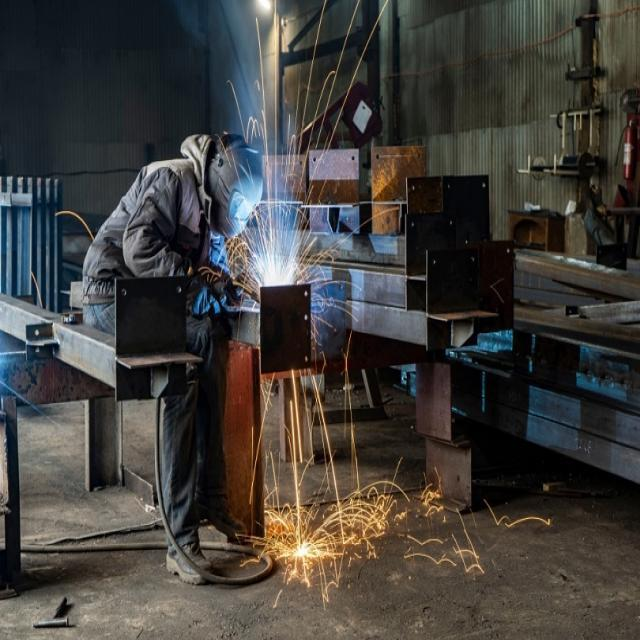with_helmet: (181, 132, 261, 234)
